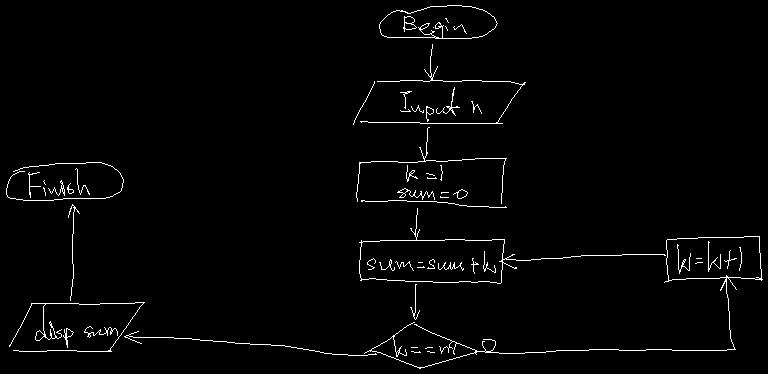arrow: (475, 275, 736, 354), (124, 331, 376, 355), (499, 254, 665, 268), (68, 204, 79, 300), (424, 44, 437, 80), (419, 127, 429, 160), (410, 284, 419, 319), (410, 208, 419, 239)
data: (353, 80, 525, 124), (9, 302, 144, 351)
decision: (364, 322, 478, 368)
process: (356, 158, 506, 207), (359, 239, 504, 283), (664, 236, 762, 282)
terminator: (6, 162, 123, 200), (379, 5, 497, 38)
text: (35, 304, 117, 347), (367, 251, 495, 273), (400, 87, 481, 121), (397, 165, 467, 199), (677, 241, 741, 273), (28, 168, 89, 197), (403, 16, 466, 38), (393, 335, 456, 356), (482, 339, 495, 351)
